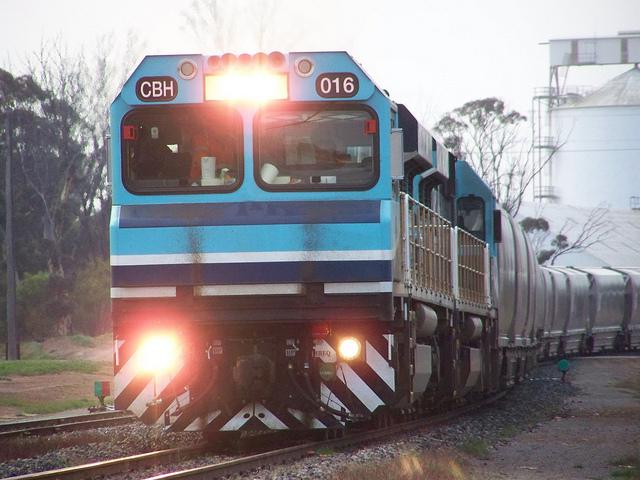Train: (104, 51, 640, 443)
